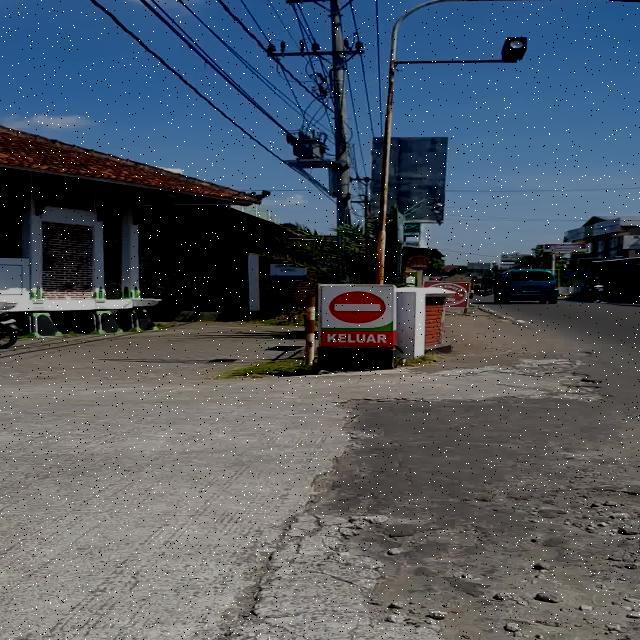Dilarang Masuk: (329, 291, 386, 324)
